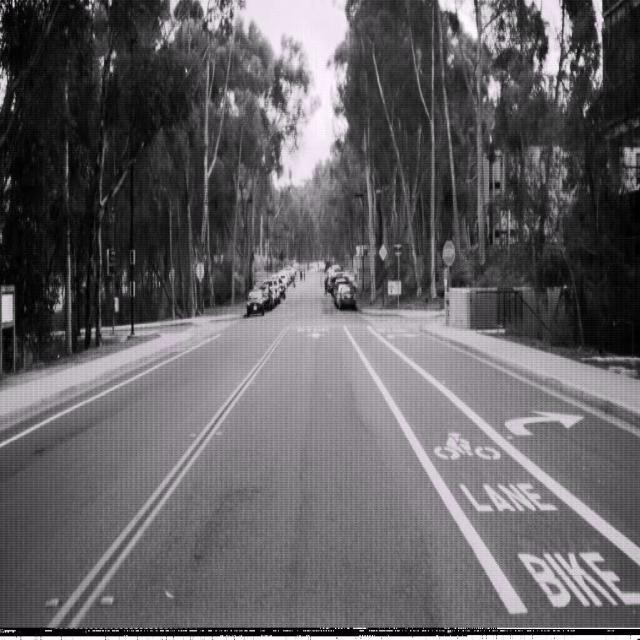stop_sign: (442, 239, 455, 265)
